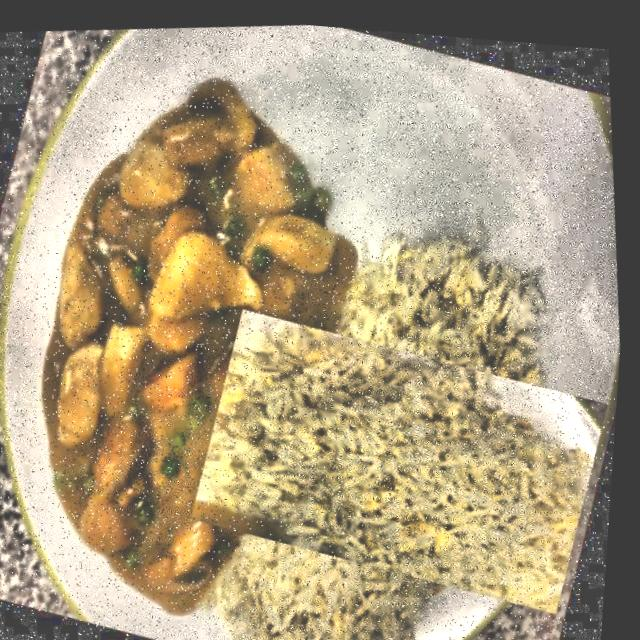Food: (0, 25, 421, 640), (192, 239, 615, 640)
